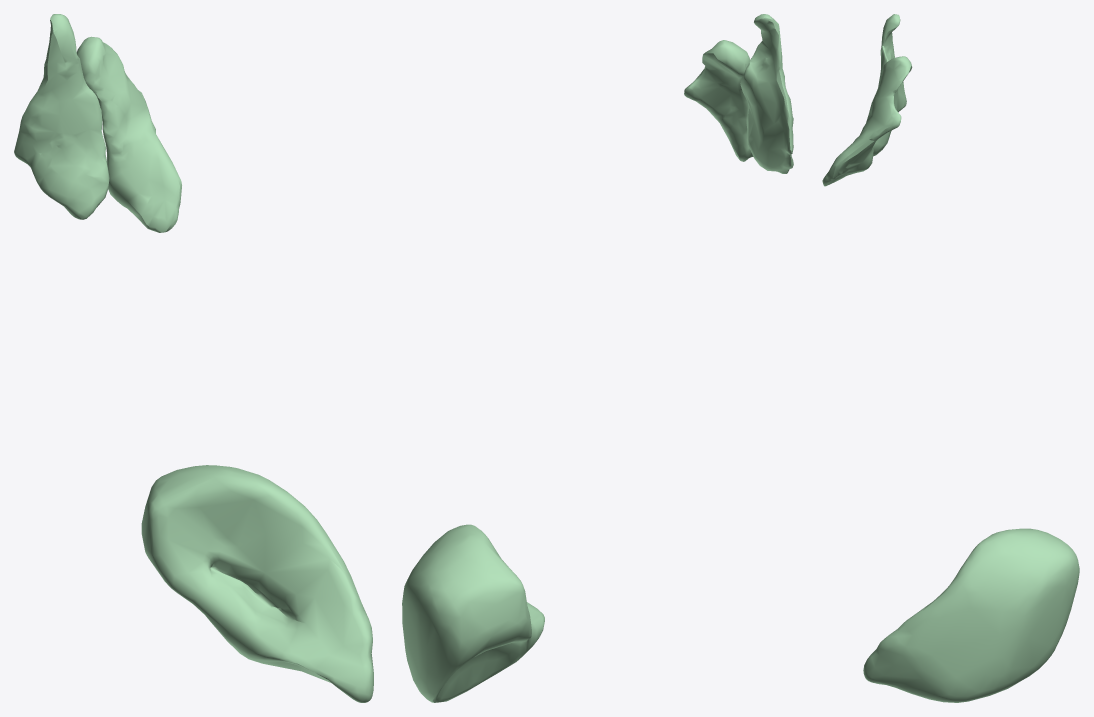
The model's file is lymphatic.glb.
3 views of the same model, side by side, from view 1: azimuth 30°, elevation 25°; view 2: azimuth 150°, elevation 25°; view 3: azimuth 270°, elevation 25° (orthographic). The views are drawn at different scales.
Parts seen in each view (by area): view 1: FMA7196_Spleen, FMA71194_Right_lobe_of_thymus, FMA71195_Left_lobe_of_thymus; view 2: FMA7196_Spleen, FMA71194_Right_lobe_of_thymus, FMA71195_Left_lobe_of_thymus; view 3: FMA7196_Spleen, FMA71195_Left_lobe_of_thymus, FMA71194_Right_lobe_of_thymus.
Boxes of the visible parts, box(x1,y1,x2,y2) form: FMA7196_Spleen: box(141, 465, 373, 702); FMA71194_Right_lobe_of_thymus: box(14, 14, 109, 219); FMA71195_Left_lobe_of_thymus: box(76, 36, 181, 232); FMA7196_Spleen: box(402, 524, 544, 702); FMA71194_Right_lobe_of_thymus: box(740, 14, 793, 173); FMA71195_Left_lobe_of_thymus: box(684, 40, 753, 161); FMA7196_Spleen: box(863, 528, 1079, 702); FMA71195_Left_lobe_of_thymus: box(822, 56, 912, 186); FMA71194_Right_lobe_of_thymus: box(873, 14, 906, 156).
Bounding box in the file's own units: 0.1386 × 0.2781 × 0.1131.
